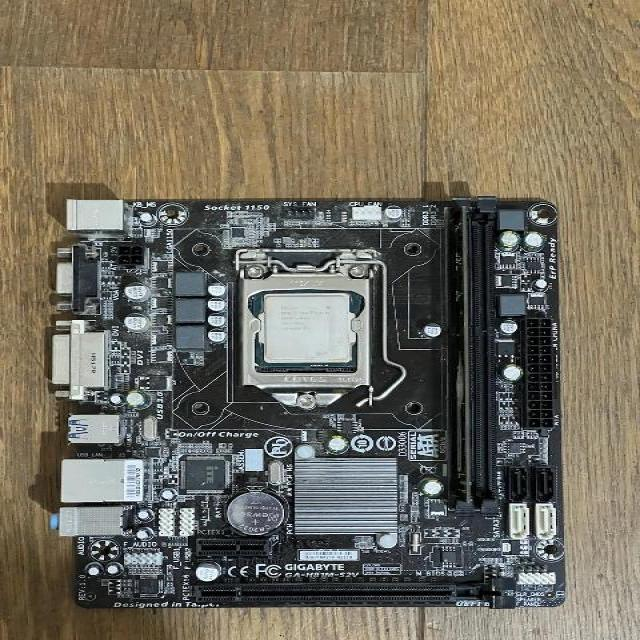CPU: (258, 293, 354, 365)
RAM: (448, 205, 472, 505)
